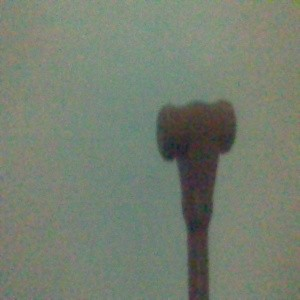palu: (156, 97, 238, 300)
